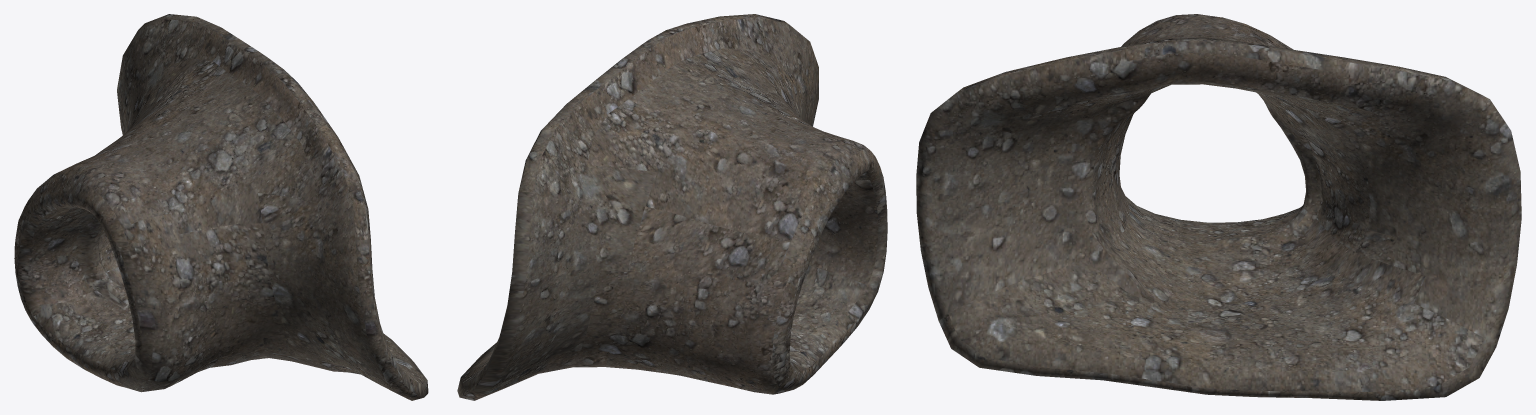
Rendered from cave_module_opening_01.dae.
The picture shows the model from 3 angles, left to right: view 1: azimuth 30°, elevation 25°; view 2: azimuth 150°, elevation 25°; view 3: azimuth 270°, elevation 25°; orthographic projection. The views are drawn at different scales.
Visible parts, largest first — view 1: opening_01; view 2: opening_01; view 3: opening_01.
Part boxes in pixels (bbox=[...]): opening_01: bbox=[14, 14, 428, 400]; opening_01: bbox=[457, 14, 887, 400]; opening_01: bbox=[916, 14, 1521, 400].
Size of what is drawn, in the model's own units: 11.28 by 10.66 by 18.36.
